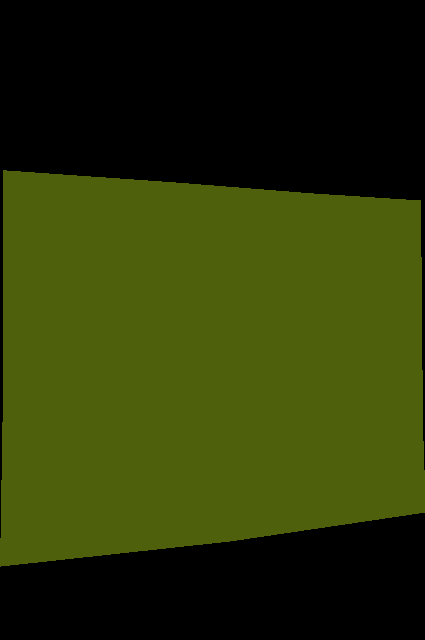Train: (0, 170, 425, 566)
